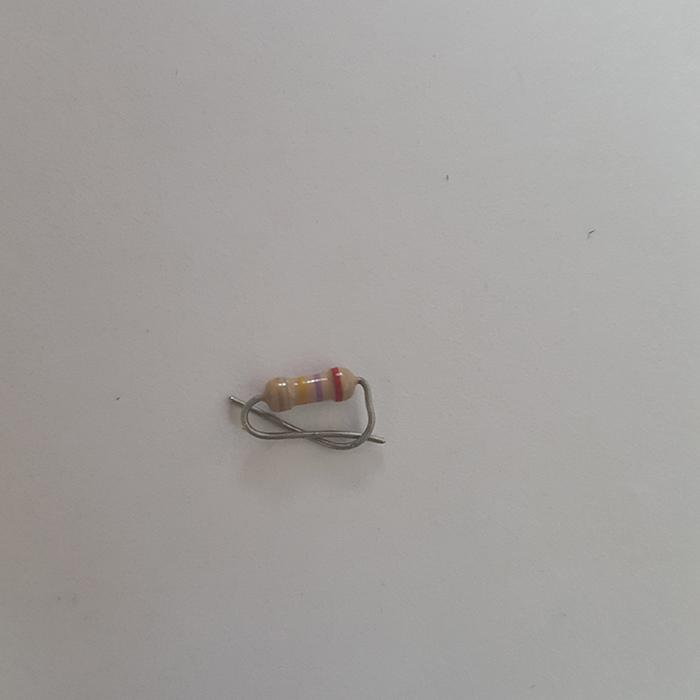resistor: (259, 365, 360, 412)
